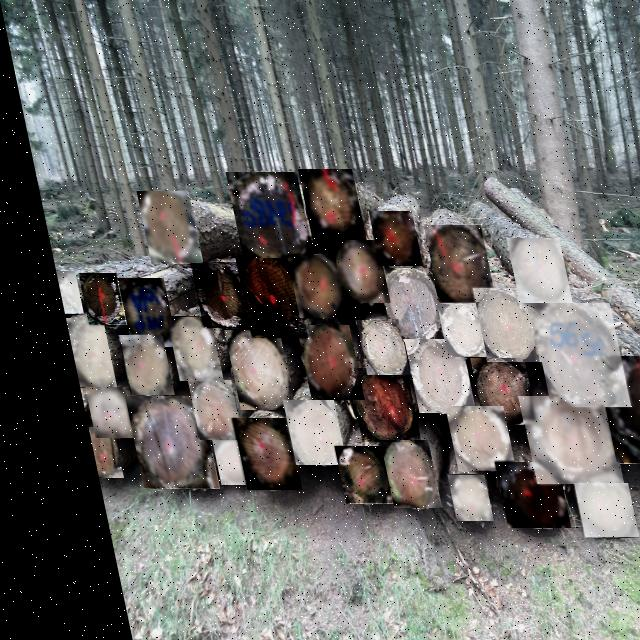wood-log: (524, 303, 606, 407), (508, 397, 598, 484), (115, 397, 192, 487), (225, 172, 299, 258), (588, 357, 640, 461), (229, 255, 288, 338), (420, 225, 480, 305), (215, 330, 273, 410), (336, 368, 397, 442), (394, 340, 454, 413), (371, 268, 430, 342), (479, 462, 545, 528), (465, 288, 522, 362), (288, 325, 343, 400), (220, 419, 277, 489), (296, 170, 353, 240), (433, 406, 491, 470), (134, 192, 187, 262), (461, 358, 514, 425), (502, 238, 556, 303), (183, 262, 235, 328), (366, 440, 415, 508), (271, 400, 322, 465), (110, 278, 158, 347), (280, 255, 331, 318), (326, 240, 374, 303), (557, 484, 612, 537), (158, 317, 203, 381), (319, 447, 368, 502), (60, 319, 99, 387), (110, 335, 154, 395), (177, 380, 221, 440), (348, 320, 392, 375), (365, 211, 409, 265), (428, 303, 471, 357), (72, 387, 113, 438), (71, 273, 109, 325), (430, 475, 469, 521), (70, 427, 98, 478), (197, 438, 225, 485), (47, 272, 70, 312)
